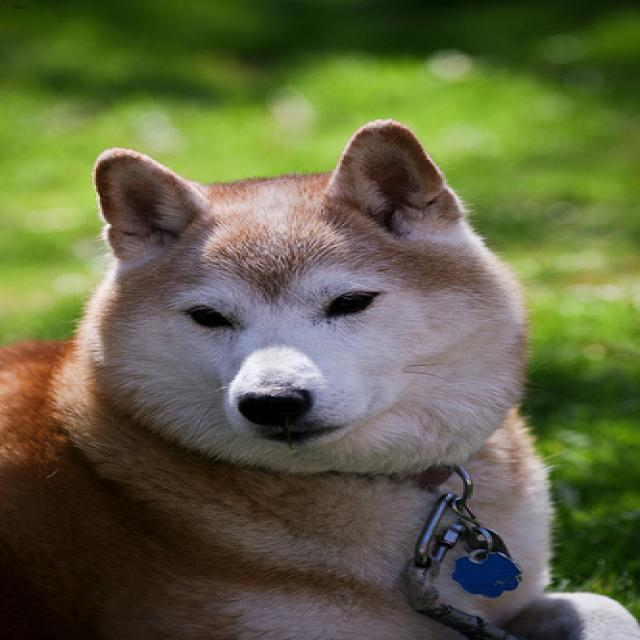dog-shiba_inu: (2, 106, 636, 637)
